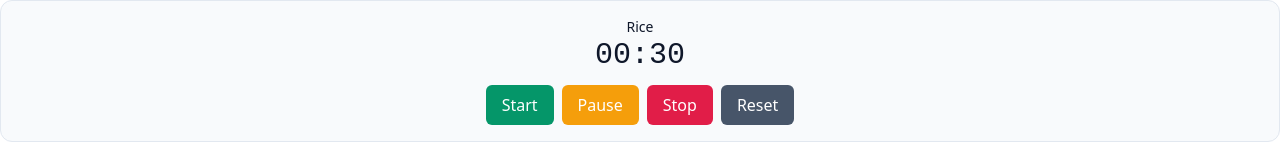
AI and cooking timer share state › reflects AI pause and resume, then stops through the cooking UI
The image size is (1280, 160).
expect the text "00:30" is shown: met, box [595,38,685,72]
Click the button "Stop" at x=680, y=105, box [647,85,713,125]
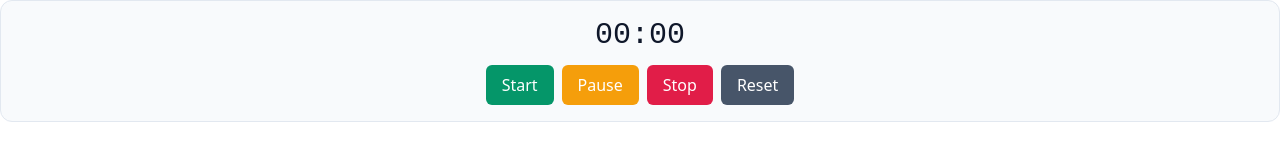
expect the text "00:00" is shown: met, box [595,18,685,52]
